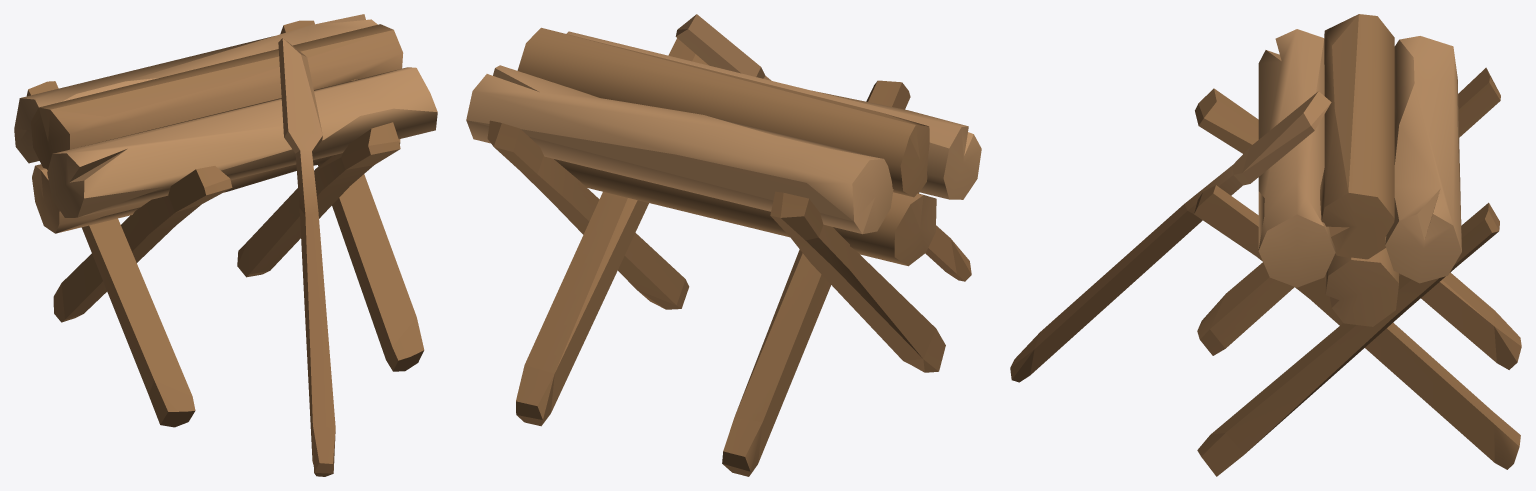
The model's file is Carrier_Wood.fbx.
3 renders of one model, left to right at view 1: azimuth 30°, elevation 25°; view 2: azimuth 150°, elevation 25°; view 3: azimuth 270°, elevation 25°, orthographic. The views are drawn at different scales.
Visible parts, largest first — view 1: Carrier_Wood; view 2: Carrier_Wood; view 3: Carrier_Wood.
Part boxes in pixels (x1=…): Carrier_Wood: x1=14, y1=14, x2=437, y2=476; Carrier_Wood: x1=466, y1=14, x2=981, y2=476; Carrier_Wood: x1=1010, y1=14, x2=1521, y2=476.
Size of the model in its own units: 151 by 124 by 168.
